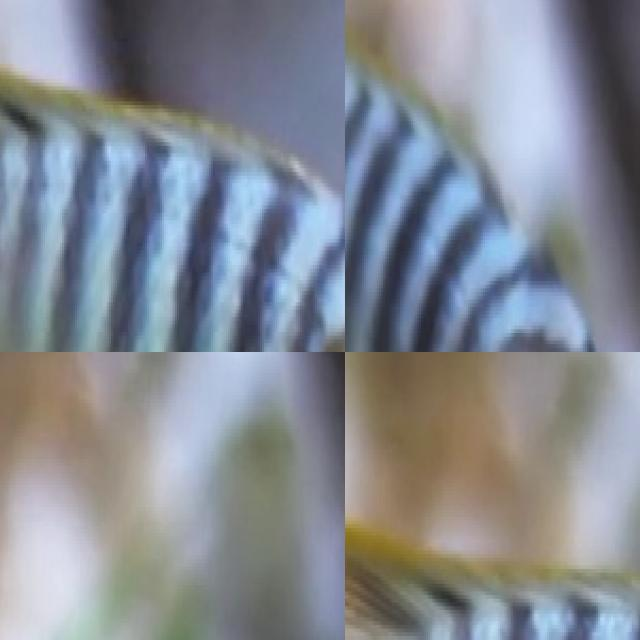fish: (0, 0, 345, 352), (345, 0, 629, 352), (345, 513, 640, 640)
